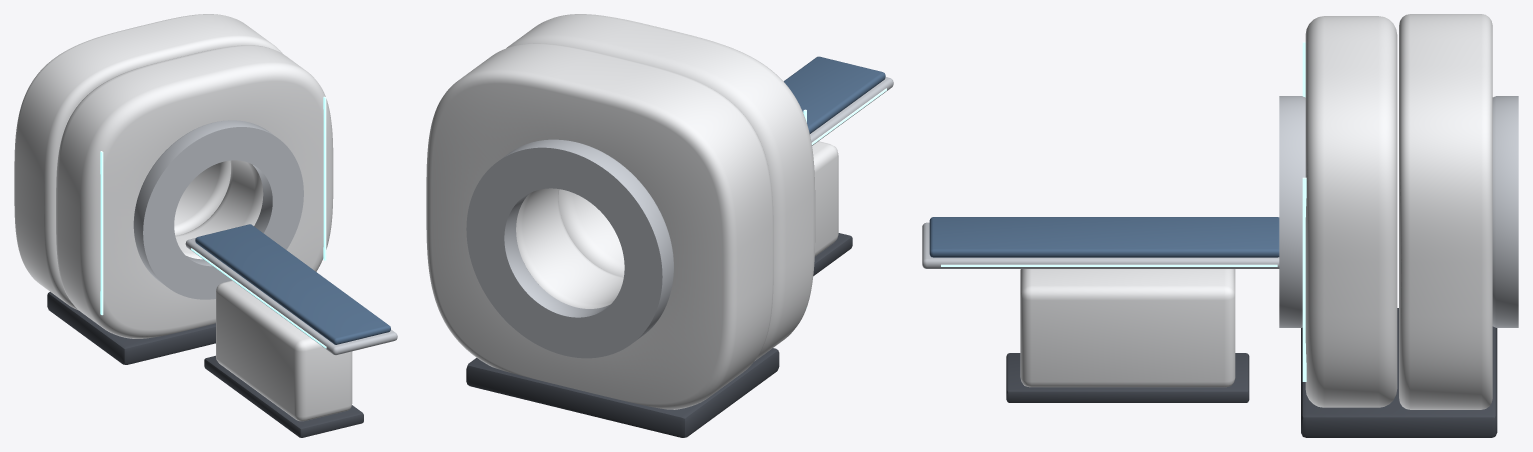
Rendered from PET_Scanner.fbx.
3 renders of one model, left to right at view 1: azimuth 30°, elevation 25°; view 2: azimuth 150°, elevation 25°; view 3: azimuth 270°, elevation 25°, orthographic. The views are drawn at different scales.
Visible parts, largest first — view 1: PET_Cover, PET_Housing, PET_Flare, PET_CouchBase, PET_Pad, PET_Base, PET_CouchFoot, PET_Tabletop, PET_SideLED_L, PET_SideLED_R, PET_TopLEDL; view 2: PET_Housing, PET_FlareRear, PET_Cover, PET_Base, PET_Pad, PET_CouchBase, PET_Tabletop, PET_CouchFoot; view 3: PET_Housing, PET_Cover, PET_CouchBase, PET_Pad, PET_Base, PET_FlareRear, PET_Flare, PET_CouchFoot, PET_Tabletop, PET_TopLEDR, PET_SideLED_R.
Part boxes in pixels (left/top/right/bottom): PET_Cover: left=56, top=45, right=333, bottom=338; PET_Housing: left=14, top=14, right=282, bottom=310; PET_Flare: left=133, top=120, right=303, bottom=299; PET_CouchBase: left=216, top=280, right=352, bottom=421; PET_Pad: left=195, top=224, right=390, bottom=344; PET_Base: left=47, top=292, right=215, bottom=364; PET_CouchFoot: left=204, top=355, right=363, bottom=437; PET_Tabletop: left=185, top=238, right=397, bottom=355; PET_SideLED_L: left=100, top=151, right=103, bottom=315; PET_SideLED_R: left=323, top=96, right=326, bottom=260; PET_TopLEDL: left=191, top=248, right=326, bottom=348; PET_Housing: left=426, top=43, right=773, bottom=409; PET_FlareRear: left=466, top=139, right=673, bottom=358; PET_Cover: left=506, top=14, right=815, bottom=361; PET_Base: left=466, top=348, right=779, bottom=437; PET_Pad: left=784, top=56, right=885, bottom=133; PET_CouchBase: left=812, top=141, right=838, bottom=256; PET_Tabletop: left=810, top=77, right=893, bottom=145; PET_CouchFoot: left=813, top=233, right=852, bottom=275; PET_Housing: left=1399, top=14, right=1492, bottom=409; PET_Cover: left=1305, top=16, right=1397, bottom=407; PET_CouchBase: left=1020, top=269, right=1235, bottom=387; PET_Pad: left=929, top=217, right=1279, bottom=257; PET_Base: left=1301, top=308, right=1497, bottom=437; PET_FlareRear: left=1492, top=96, right=1518, bottom=327; PET_Flare: left=1279, top=96, right=1305, bottom=327; PET_CouchFoot: left=1006, top=353, right=1249, bottom=402; PET_Tabletop: left=922, top=222, right=1279, bottom=268; PET_TopLEDR: left=941, top=264, right=1277, bottom=266; PET_SideLED_R: left=1302, top=177, right=1306, bottom=381.
Size of the model in its own units: 1.96 by 1.96 by 3.19.
